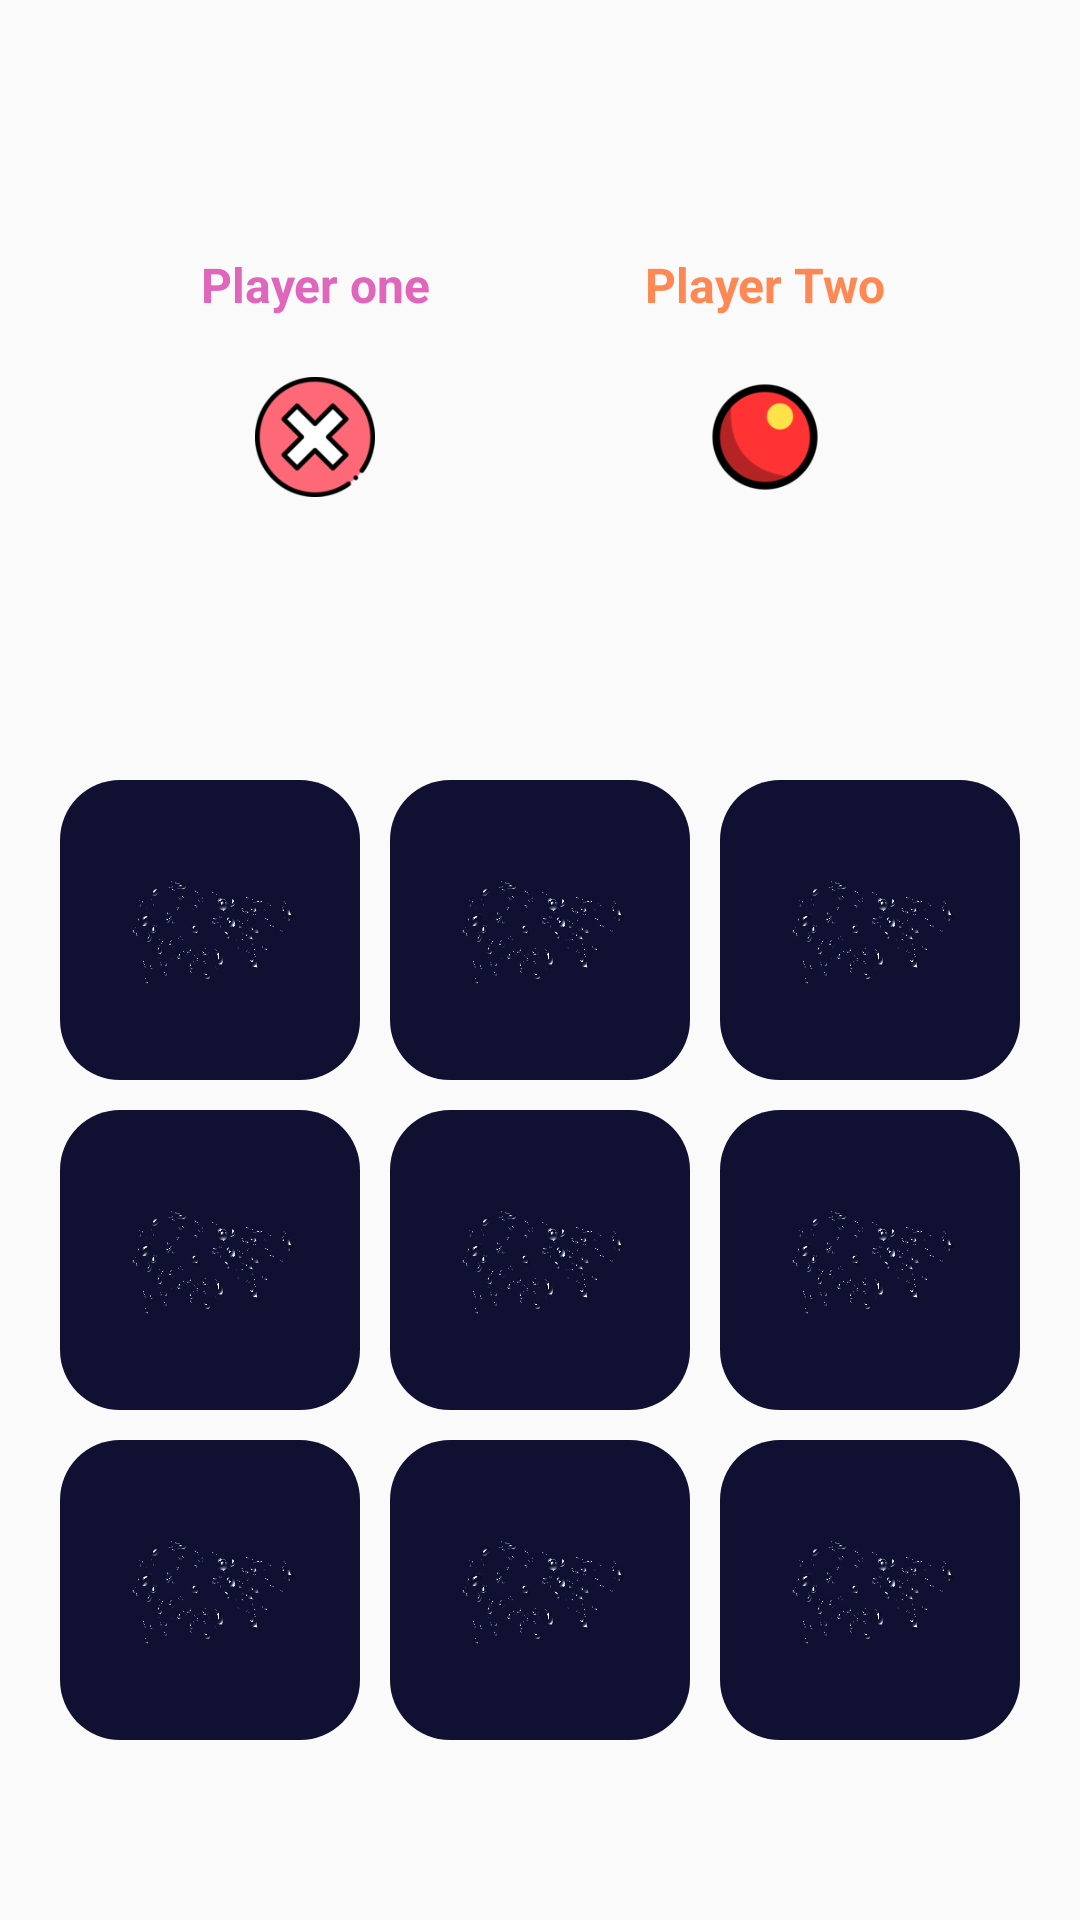

Screen size 1080 × 1920. Icon name, then its center in pixels as [x,y]:
cross: [315,437]
record: [765,437]
